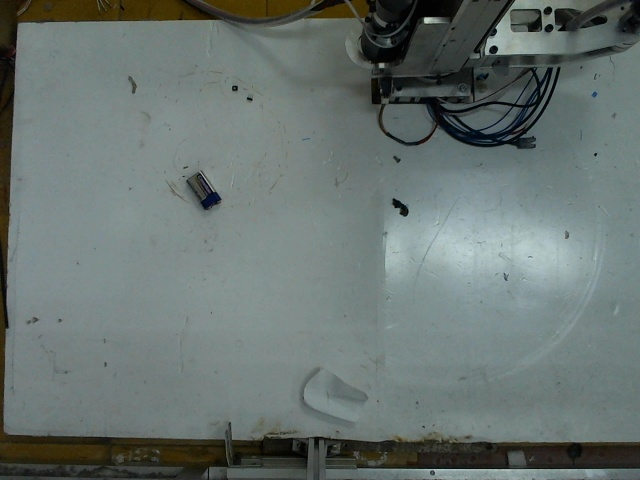battery: (185, 166, 219, 209)
